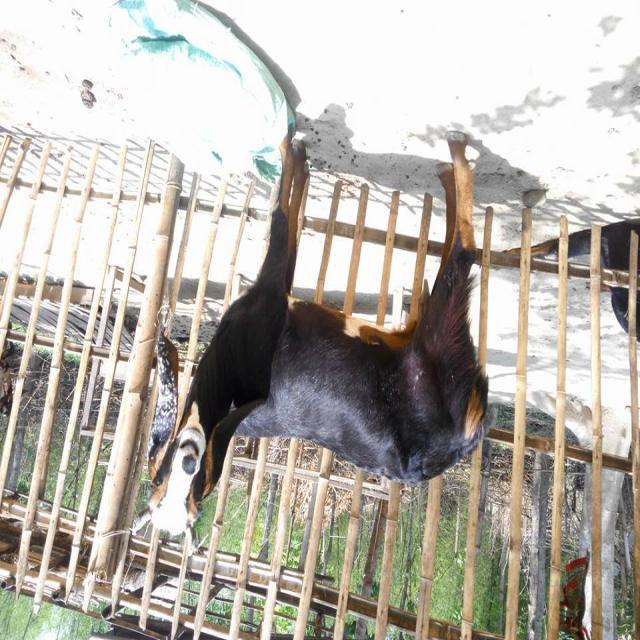Goat: (129, 120, 494, 558)
